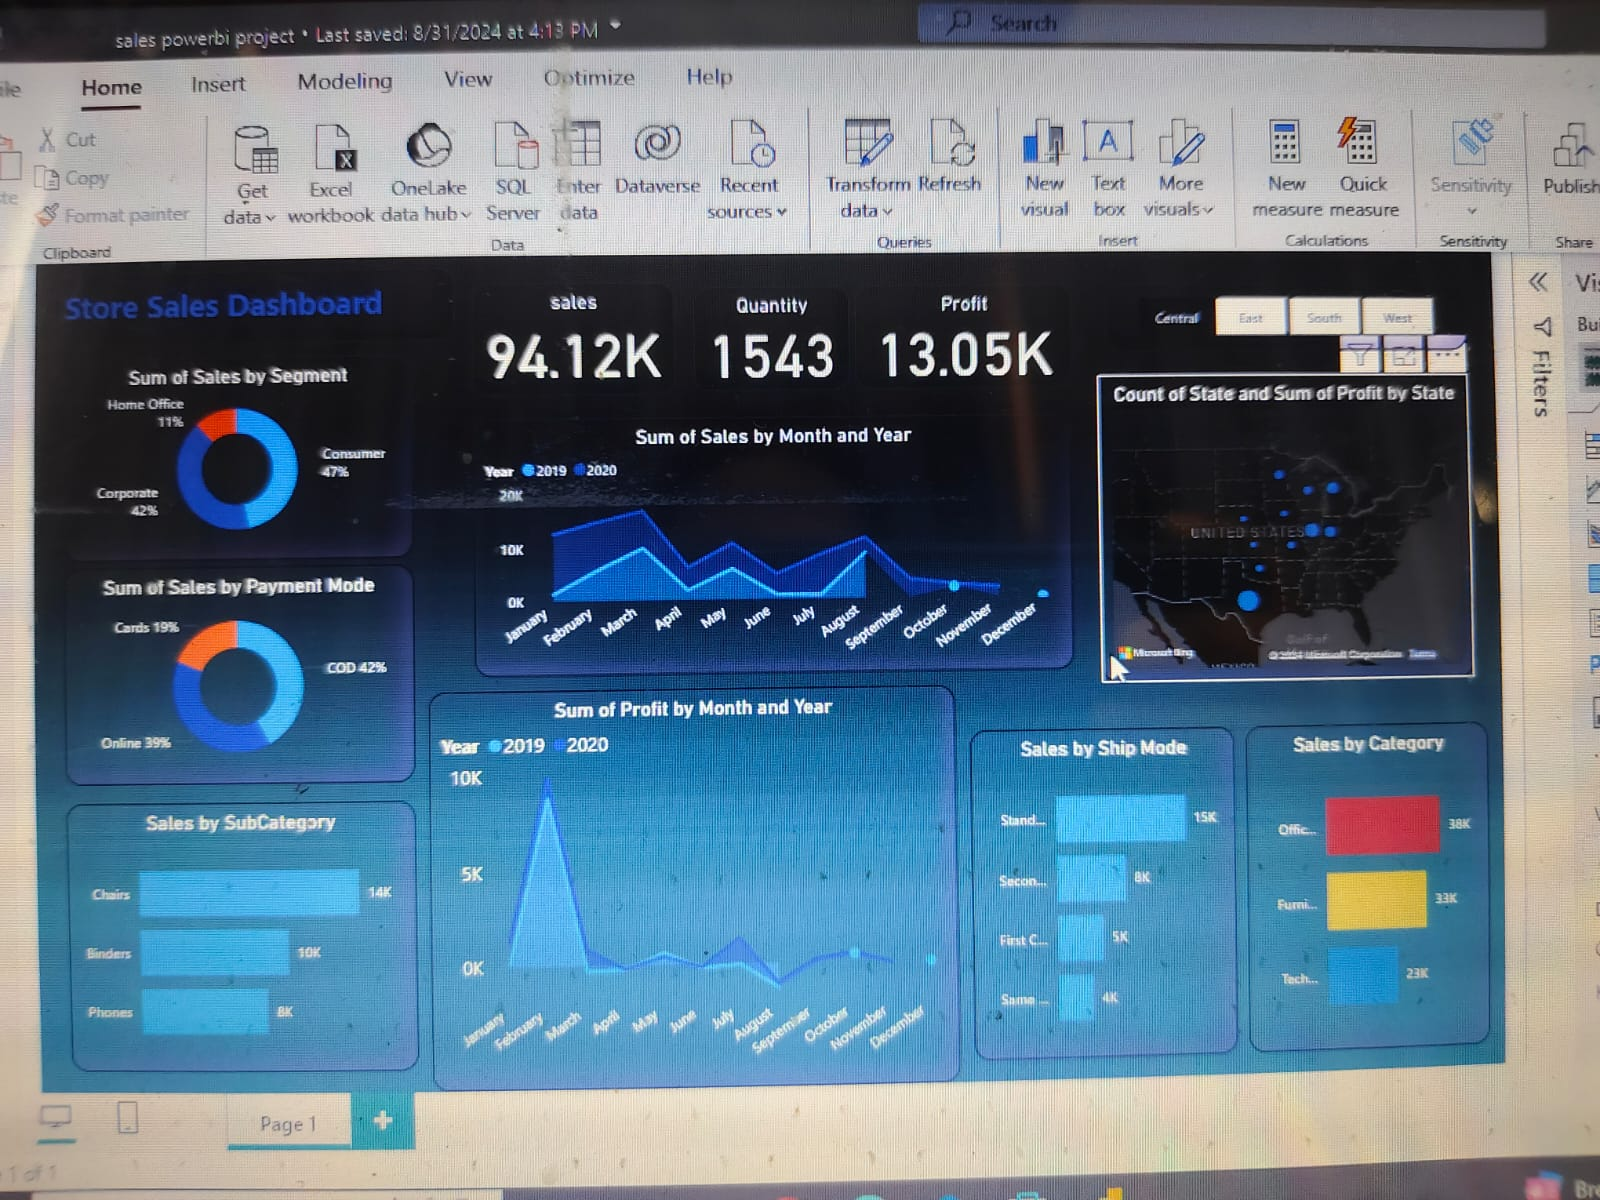

What the dashboard file says about the page in this screenshot:
{"tool":"powerbi","page":{"name":"Page 1","canvas":[1280,720],"ordinal":0},"visuals":[{"type":"clusteredBarChart","title":" Sales by Category","fields":{"Category":["SuperStore_Sales_Dataset.Category"],"Y":["Sum(SuperStore_Sales_Dataset.Sales)"]},"box":[1048.8,416.7,218.3,284.9],"z":0},{"type":"clusteredBarChart","title":" Sales by SubCategory","fields":{"Category":["SuperStore_Sales_Dataset.Sub-Category"],"Y":["Sum(SuperStore_Sales_Dataset.Sales)"]},"box":[26.9,469.1,303.3,232.4],"z":1000},{"type":"clusteredBarChart","title":" Sales by Ship Mode","fields":{"Category":["SuperStore_Sales_Dataset.Ship Mode"],"Y":["Sum(SuperStore_Sales_Dataset.Sales)"]},"box":[807.9,416.7,231,284.9],"z":2000},{"type":"stackedAreaChart","fields":{"Y":["Sum(SuperStore_Sales_Dataset.Sales)"],"Series":["SuperStore_Sales_Dataset.Order Date.Variation.Date Hierarchy.Year"],"Category":["SuperStore_Sales_Dataset.Order Date.Variation.Date Hierarchy.Month","SuperStore_Sales_Dataset.Order Date.Variation.Date Hierarchy.Day"]},"box":[381.3,141.7,518.7,222.5],"z":3000},{"type":"actionButton","box":[0,0,100,40],"z":4000},{"type":"stackedAreaChart","fields":{"Series":["SuperStore_Sales_Dataset.Order Date.Variation.Date Hierarchy.Year"],"Category":["SuperStore_Sales_Dataset.Order Date.Variation.Date Hierarchy.Month","SuperStore_Sales_Dataset.Order Date.Variation.Date Hierarchy.Day"],"Y":["Sum(SuperStore_Sales_Dataset.Profit)"]},"box":[341.6,377,453.5,343],"z":5000},{"type":"map","fields":{"Category":["SuperStore_Sales_Dataset.State"],"Size":["CountNonNull(SuperStore_Sales_Dataset.State)"]},"box":[924.1,109.1,331.7,267.9],"z":6000},{"type":"donutChart","fields":{"Category":["SuperStore_Sales_Dataset.Segment"],"Y":["Sum(SuperStore_Sales_Dataset.Sales)"]},"box":[26.9,85,303.3,175.7],"z":7000},{"type":"donutChart","fields":{"Category":["SuperStore_Sales_Dataset.Payment Mode"],"Y":["Sum(SuperStore_Sales_Dataset.Sales)"]},"box":[26.9,266.5,303.3,187.1],"z":8000},{"type":"slicer","fields":{"Values":["SuperStore_Sales_Dataset.Region"]},"box":[931.2,28.3,324.6,59.5],"z":9000},{"type":"textbox","box":[15.6,9.9,351.5,63.8],"z":9001},{"type":"card","title":"sales","fields":{"Values":["Sum(SuperStore_Sales_Dataset.Sales)"]},"box":[381.3,24.1,175.7,97.8],"z":9002},{"type":"card","title":"Quantity","fields":{"Values":["Sum(SuperStore_Sales_Dataset.Quantity)"]},"box":[572.6,28.3,136.1,90.7],"z":9003},{"type":"card","title":"Profit","fields":{"Values":["Sum(SuperStore_Sales_Dataset.Profit)"]},"box":[712.9,28.3,189.9,90.7],"z":9004}]}

Visuals, with their boxes in screenshot pixels (x1, y1, x2, y2):
" Sales by Category" clusteredBarChart: BBox(1247, 716, 1507, 1055)
" Sales by SubCategory" clusteredBarChart: BBox(32, 779, 393, 1055)
" Sales by Ship Mode" clusteredBarChart: BBox(961, 716, 1235, 1055)
stackedAreaChart - Sum(SuperStore_Sales_Dataset.Sales) x SuperStore_Sales_Dataset.Order Date.Variation.Date Hierarchy.Year: BBox(453, 389, 1070, 654)
actionButton: BBox(0, 221, 119, 268)
stackedAreaChart - SuperStore_Sales_Dataset.Order Date.Variation.Date Hierarchy.Year x SuperStore_Sales_Dataset.Order Date.Variation.Date Hierarchy.Month: BBox(406, 669, 945, 1077)
map - SuperStore_Sales_Dataset.State x CountNonNull(SuperStore_Sales_Dataset.State): BBox(1099, 351, 1493, 669)
donutChart - SuperStore_Sales_Dataset.Segment x Sum(SuperStore_Sales_Dataset.Sales): BBox(32, 322, 393, 531)
donutChart - SuperStore_Sales_Dataset.Payment Mode x Sum(SuperStore_Sales_Dataset.Sales): BBox(32, 538, 393, 760)
slicer - SuperStore_Sales_Dataset.Region: BBox(1107, 254, 1493, 325)
textbox: BBox(19, 233, 436, 308)
"sales" card: BBox(453, 249, 662, 366)
"Quantity" card: BBox(681, 254, 843, 362)
"Profit" card: BBox(848, 254, 1073, 362)
